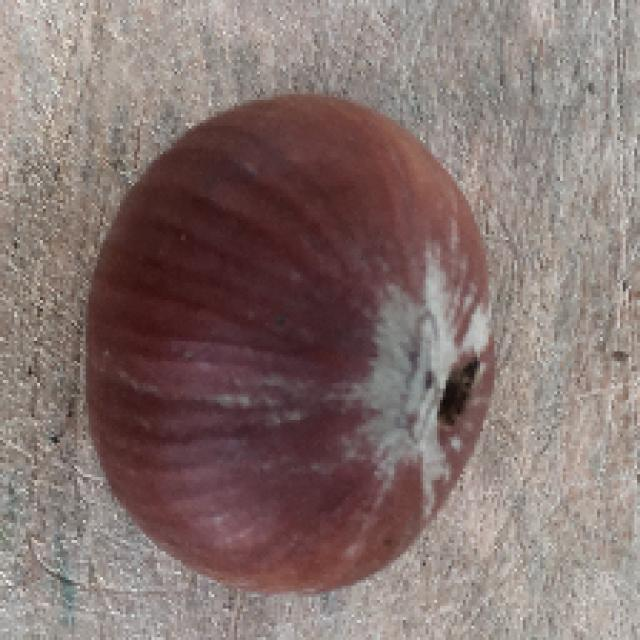DamagedHazelnut: (82, 93, 498, 596)
